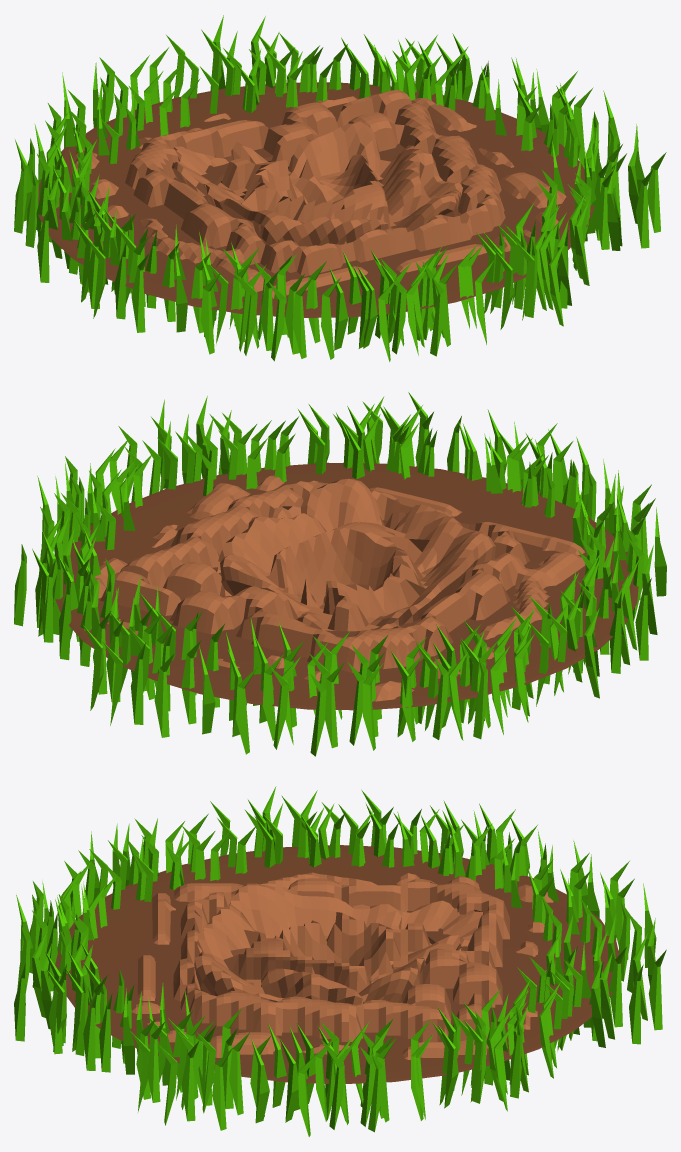
File: Soil.fbx
3 views of the same model, one above another, from view 1: azimuth 30°, elevation 25°; view 2: azimuth 150°, elevation 25°; view 3: azimuth 270°, elevation 25° (orthographic). The views are drawn at different scales.
Parts seen in each view (by area): view 1: Sphere, Cube.000, Cube.005; view 2: Sphere, Cube.005, Cube.000; view 3: Sphere, Cube.000, Cube.005.
Boxes of the visible parts, <box> form: Sphere: <box>38,82,594,317</box>; Cube.000: <box>14,33,666,361</box>; Cube.005: <box>15,15,622,361</box>; Sphere: <box>55,462,638,710</box>; Cube.005: <box>14,396,655,756</box>; Cube.000: <box>32,392,666,745</box>; Sphere: <box>55,845,621,1083</box>; Cube.000: <box>14,786,605,1136</box>; Cube.005: <box>33,789,666,1126</box>.
Bounding box in the file's own units: 1583 × 331 × 1619.
